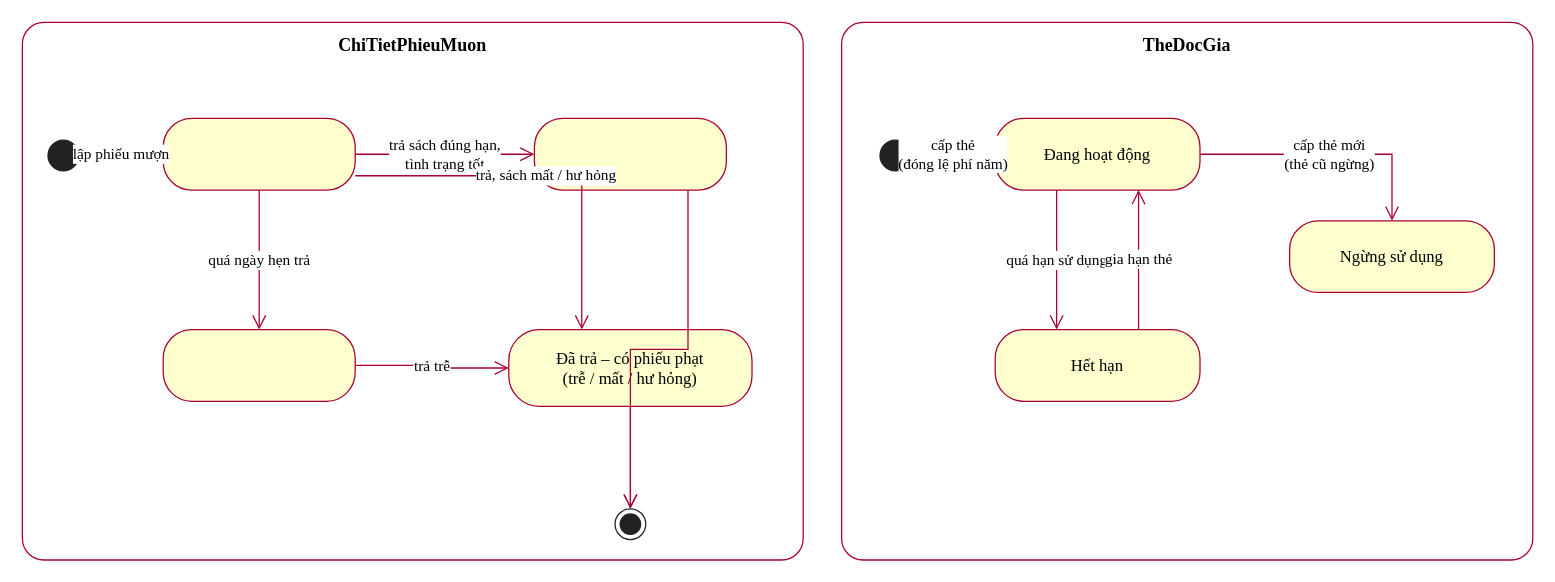
Image size: 1555x582. Some labels were removed from this diagram. The shapes that lost their labels are listed below. From the top down, each one's centre as x and y in pixels, then its label:
the point at 258,153: Đang mượn
the point at 629,153: Đã trả
the point at 258,364: Quá hạn
